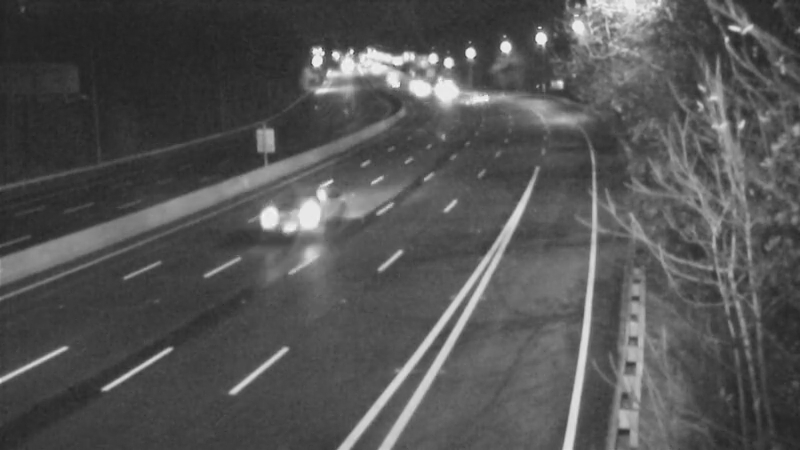vehicle: (246, 180, 326, 260), (417, 61, 467, 111), (449, 73, 499, 123)
